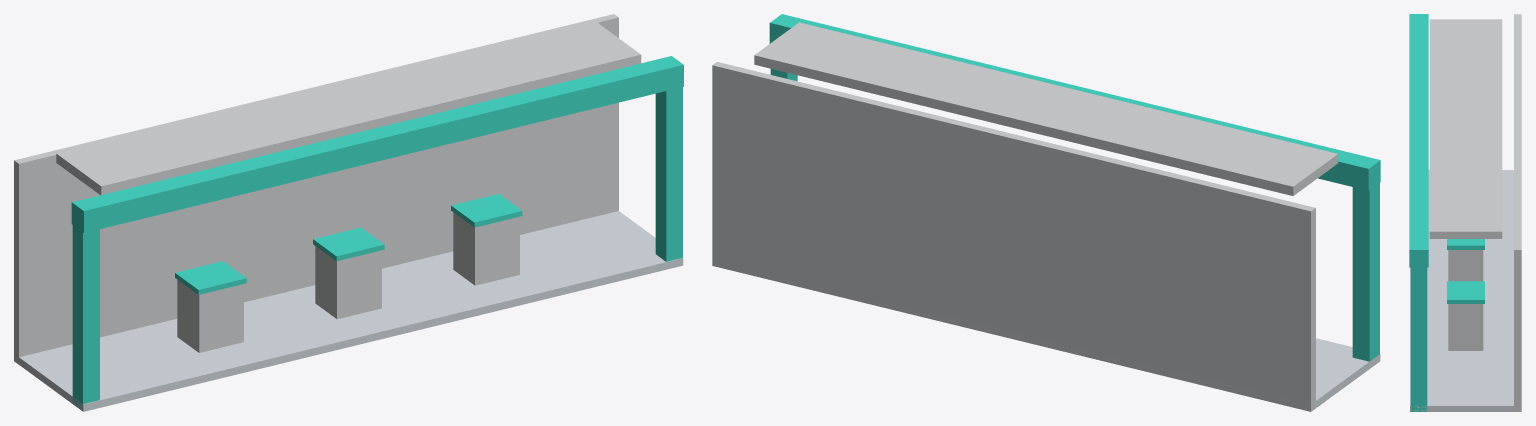
The picture shows the model from 3 angles, left to right: view 1: azimuth 30°, elevation 25°; view 2: azimuth 150°, elevation 25°; view 3: azimuth 270°, elevation 25°; orthographic projection. The views are drawn at different scales.
Visible parts, largest first — view 1: Exhibition Booth Concept; view 2: Exhibition Booth Concept; view 3: Exhibition Booth Concept.
Part boxes in pixels (left/top/right/bottom): Exhibition Booth Concept: left=14, top=14, right=683, bottom=411; Exhibition Booth Concept: left=712, top=14, right=1380, bottom=411; Exhibition Booth Concept: left=1409, top=14, right=1521, bottom=411.
Size of the model in its own units: 10 by 3.34 by 2.01.
